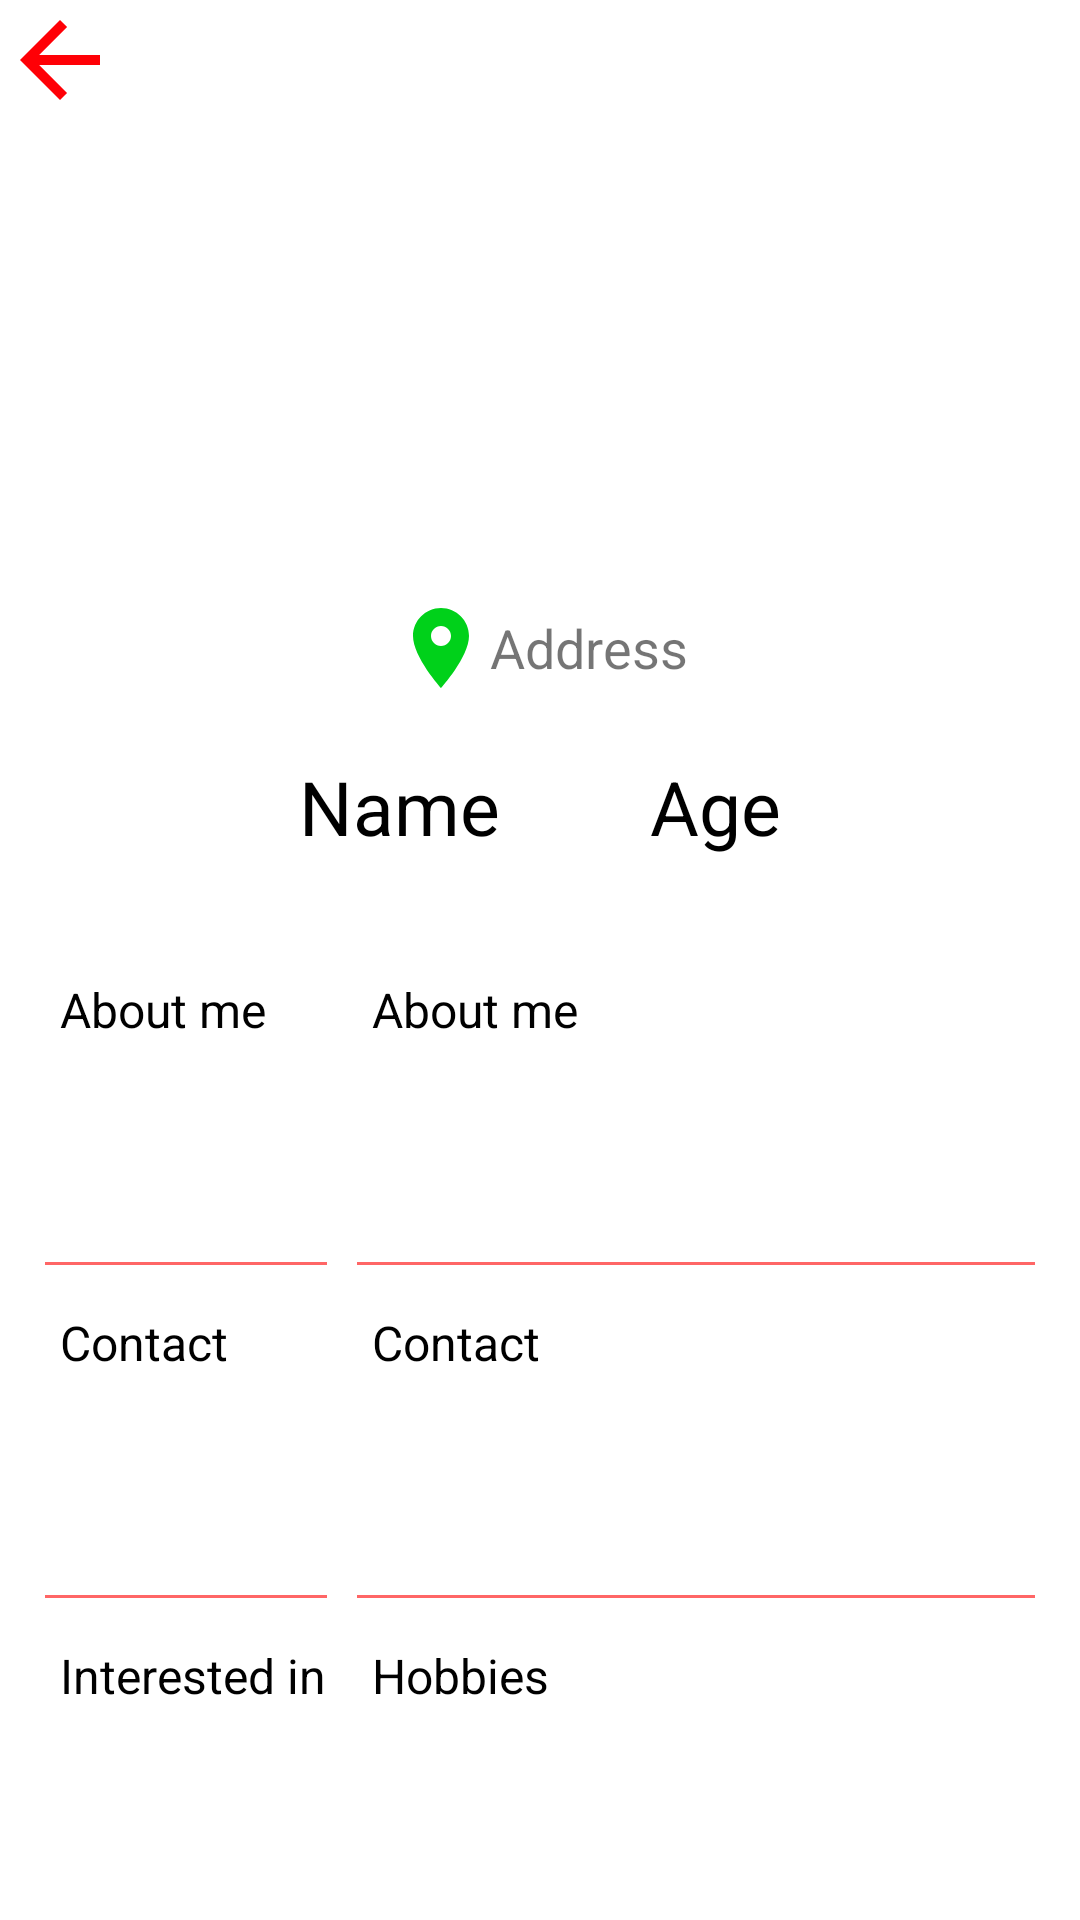

Locate icon controls on the screen. Image size 1080px×1920px, boxes as Rect(x1, y1, x2, y2).
arrow back: Rect(20, 20, 100, 100)
